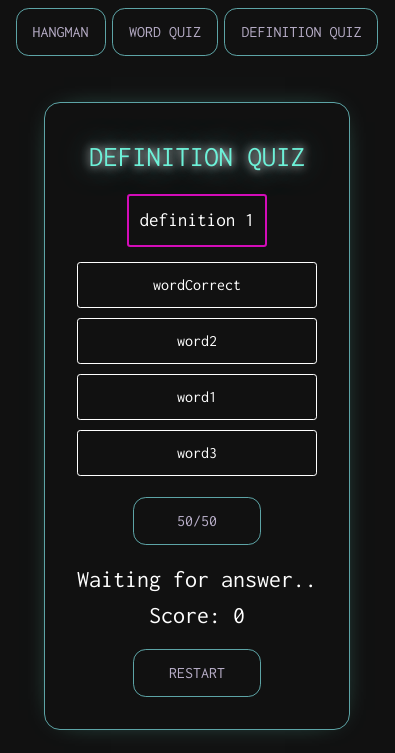
Test: QuizDefinition › should have div with test-id wrong and not have div with test-id correct after click wrong answer
What coordinates should you click on to do the following:
click the text "word1"
I would click on:
 (197, 396)
Its box is [177,388,217,405].
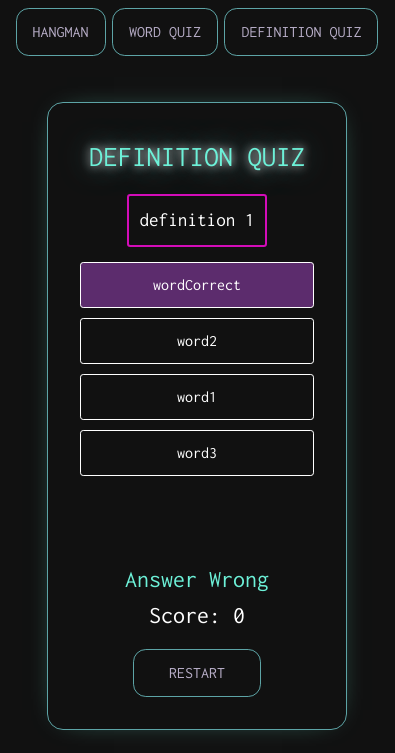
Result: the text "Answer Wrong" is shown at [125,561,269,597]
